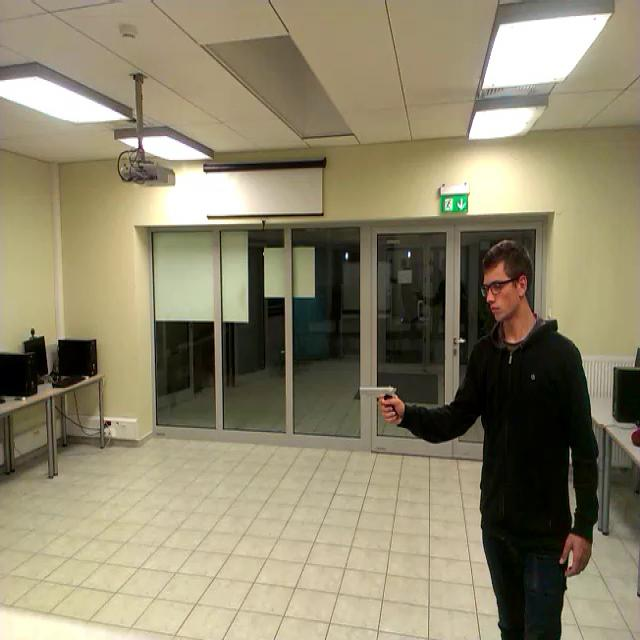handgun: (355, 375, 405, 429)
